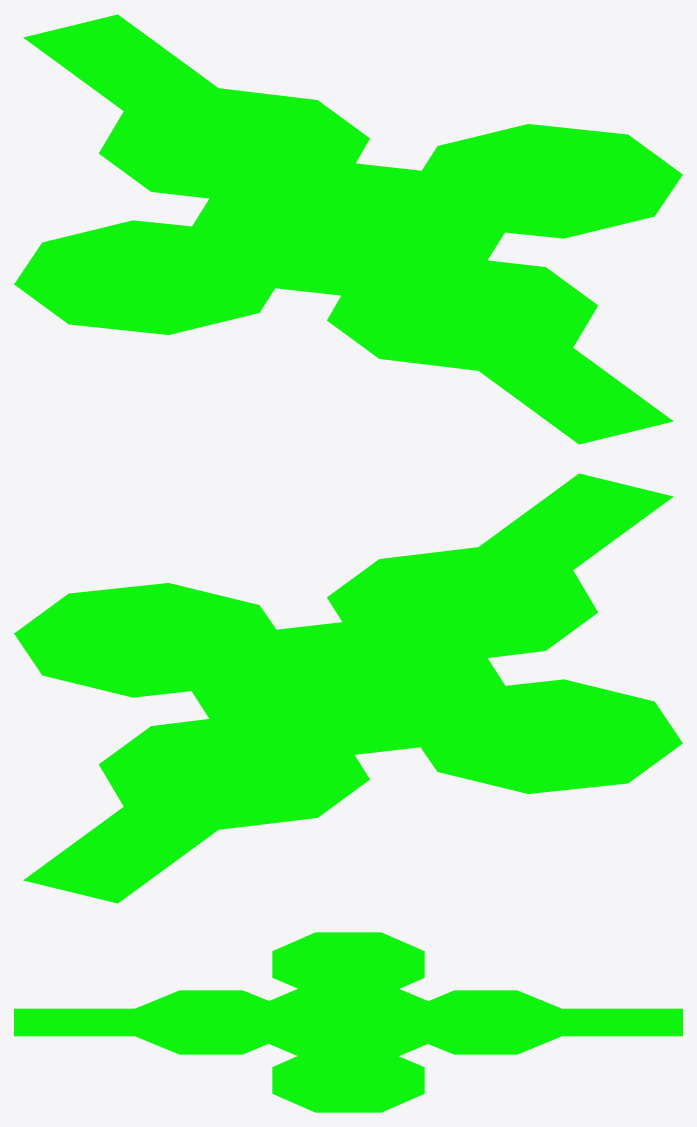
File: s07a_ib1-floor.glb
3 renders of one model, top to bottom at view 1: azimuth 30°, elevation 25°; view 2: azimuth 150°, elevation 25°; view 3: azimuth 270°, elevation 25°, orthographic. The views are drawn at different scales.
Parts seen in each view (by area): view 1: collision_floor-colonly; view 2: collision_floor-colonly; view 3: collision_floor-colonly.
Boxes of the visible parts, <box> form: collision_floor-colonly: <box>14,14,682,444</box>; collision_floor-colonly: <box>14,473,682,903</box>; collision_floor-colonly: <box>14,932,682,1112</box>.
Size of the model in its own units: 38.86 by 0 by 60.93.
